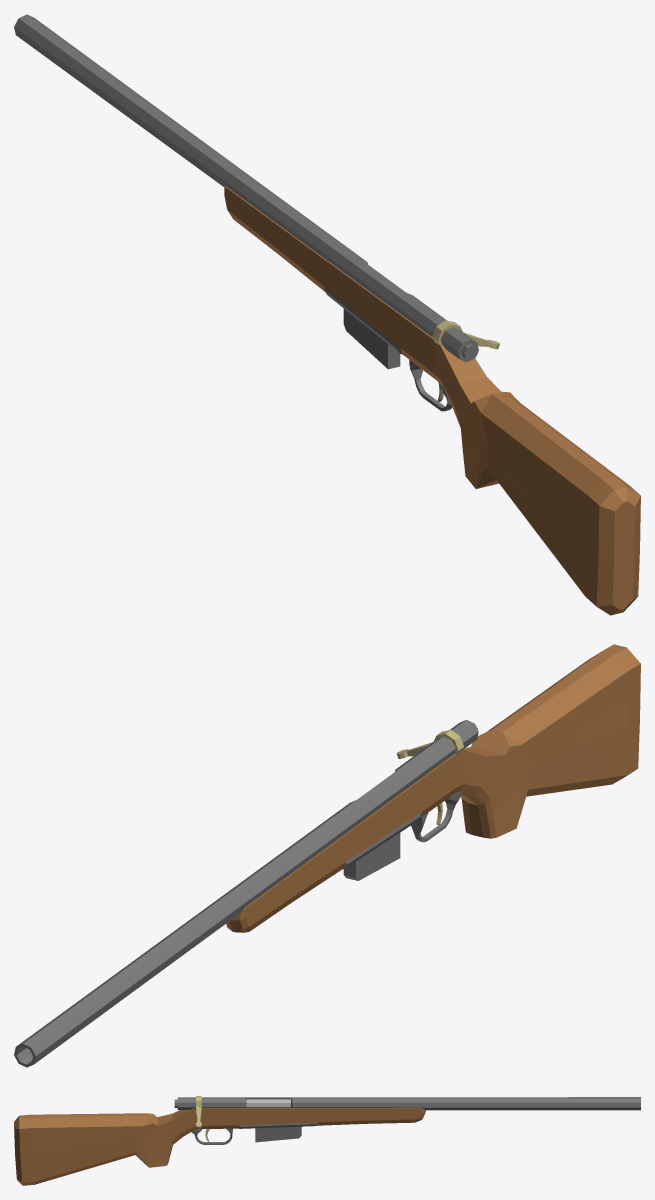
File: BoltAction-Rifles-B-Long.fbx
3 renders of one model, top to bottom at view 1: azimuth 30°, elevation 25°; view 2: azimuth 150°, elevation 25°; view 3: azimuth 270°, elevation 25°, orthographic. The views are drawn at different scales.
Visible parts, largest first — view 1: SniperRifle_B.003; view 2: SniperRifle_B.003; view 3: SniperRifle_B.003.
Part boxes in pixels (x1=…): SniperRifle_B.003: x1=14, y1=14, x2=640, y2=615; SniperRifle_B.003: x1=14, y1=644, x2=640, y2=1067; SniperRifle_B.003: x1=14, y1=1096, x2=640, y2=1185.
Bounding box in the file's own units: 112 × 251 × 1623.
